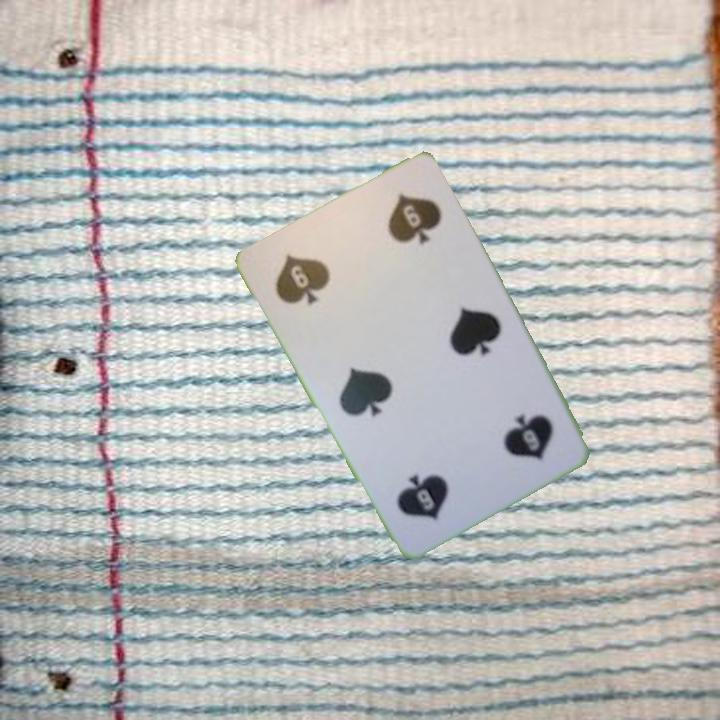s_6.png: (450, 375, 577, 497), (252, 215, 380, 336)
